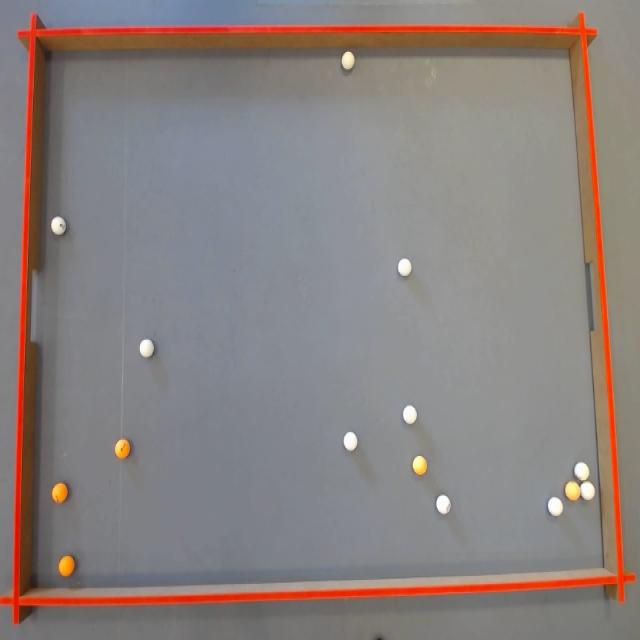orange_ball: (52, 482, 68, 503), (59, 555, 74, 577), (114, 439, 130, 459), (412, 456, 427, 475), (566, 481, 580, 501)
white_ball: (574, 462, 590, 481), (402, 405, 417, 424), (436, 495, 451, 514), (548, 497, 563, 516), (51, 217, 66, 236), (580, 482, 595, 501), (140, 339, 154, 358), (344, 432, 357, 451), (398, 258, 411, 276), (342, 51, 354, 70)
